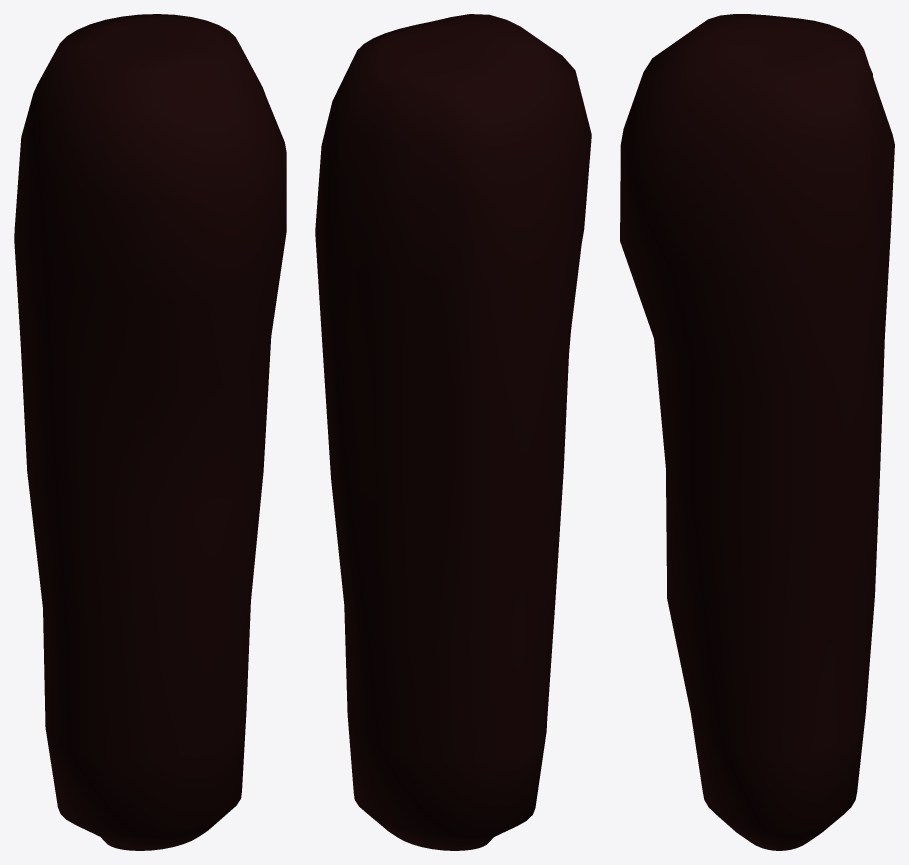
File: arm2 (no mapping).fbx
3 views of the same model, side by side, from view 1: azimuth 30°, elevation 25°; view 2: azimuth 150°, elevation 25°; view 3: azimuth 270°, elevation 25° (orthographic).
Parts seen in each view (by area): view 1: arm2; view 2: arm2; view 3: arm2.
Part boxes in pixels (x1,y1,x2,y2): arm2: [14, 14, 286, 850]; arm2: [315, 14, 591, 850]; arm2: [620, 14, 894, 850].
Bounding box in the file's own units: 153 × 495 × 156.
